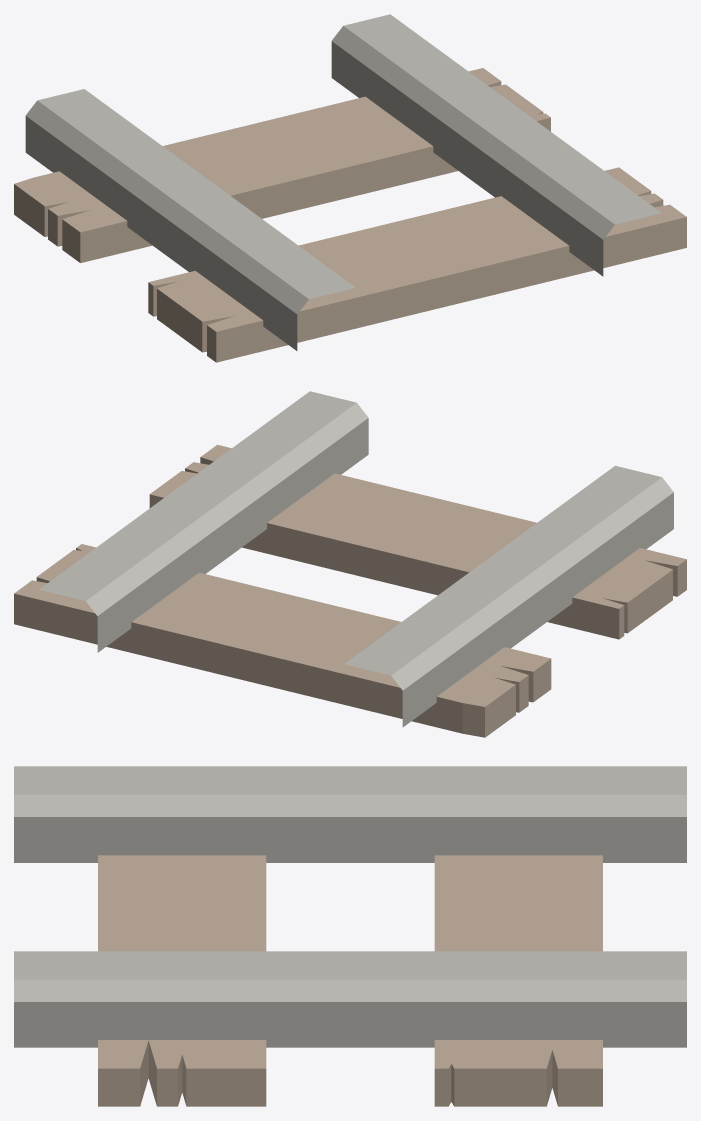
The model's file is Cave_Prop_Railway_Straight_1.glb.
3 views of the same model, one above another, from view 1: azimuth 30°, elevation 25°; view 2: azimuth 150°, elevation 25°; view 3: azimuth 270°, elevation 25° (orthographic). The views are drawn at different scales.
Parts seen in each view (by area): view 1: Cave_Prop_Railway_Straight_1; view 2: Cave_Prop_Railway_Straight_1; view 3: Cave_Prop_Railway_Straight_1.
Boxes of the visible parts, bbox=[...] form: Cave_Prop_Railway_Straight_1: bbox=[14, 14, 686, 362]; Cave_Prop_Railway_Straight_1: bbox=[14, 391, 686, 737]; Cave_Prop_Railway_Straight_1: bbox=[14, 766, 686, 1106].
Size of the model in its own units: 1 by 0.15 by 1.
